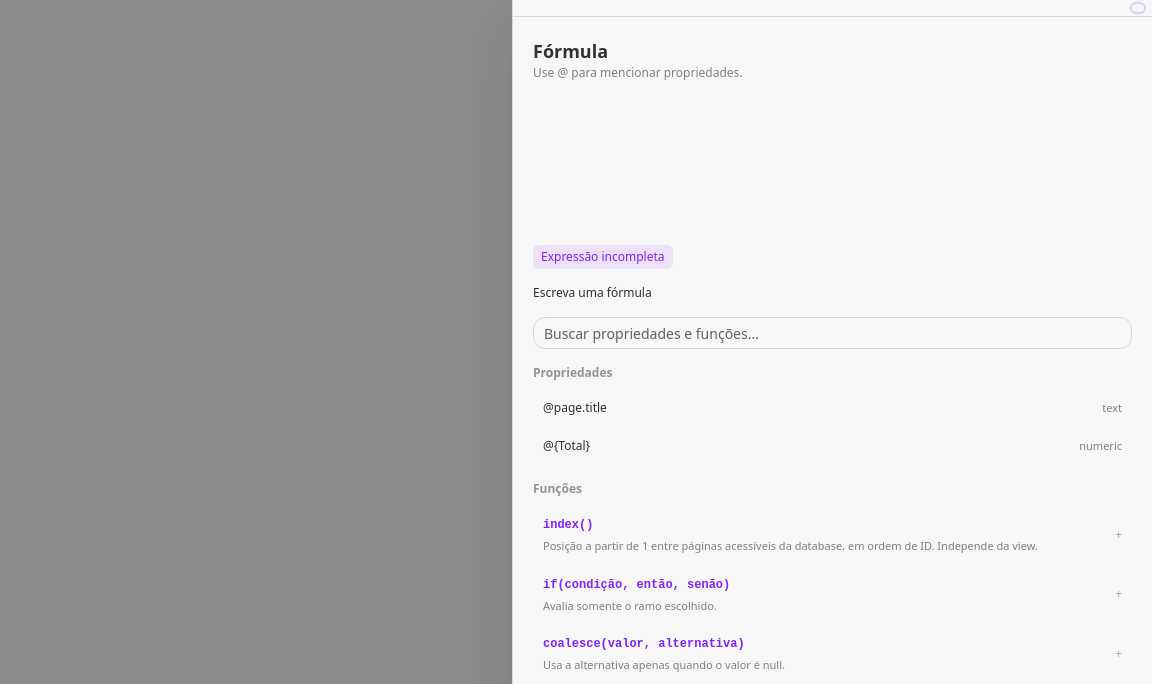
Formula drawer › inserts a function immediately with focus inside parentheses
The width and height of the screenshot is (1152, 684).
What coordinates should you click on to do the following:
click the button "if(condição"
I would click on:
 (637, 584)
Its box is [533, 564, 1132, 624].
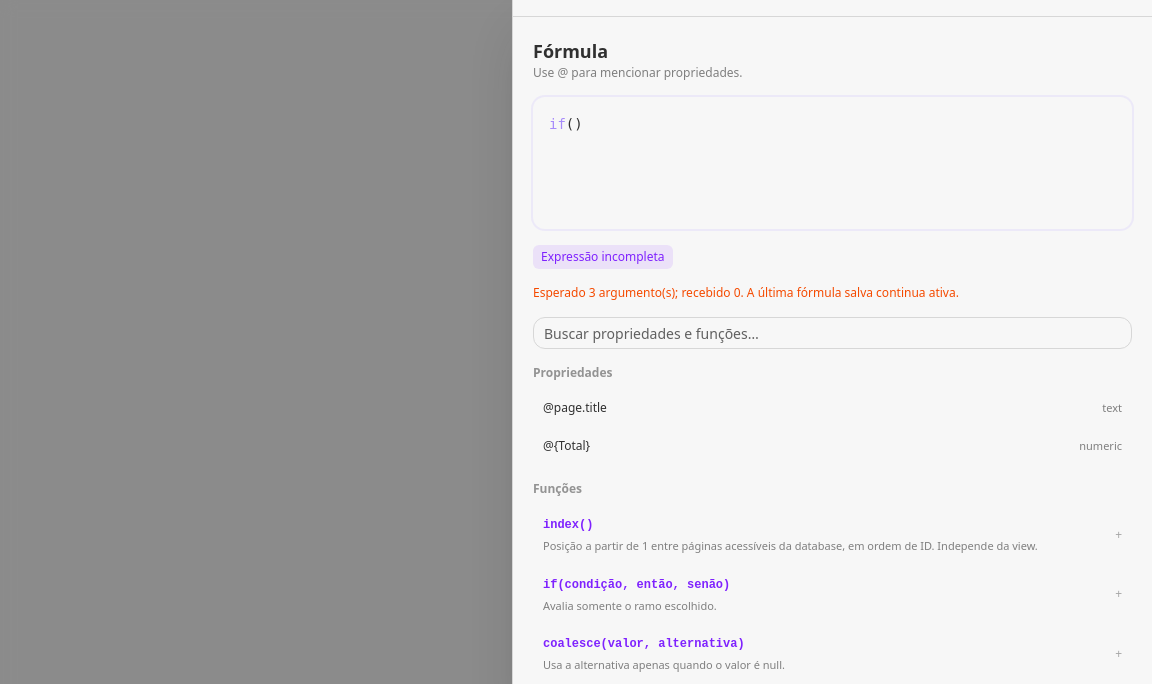
Check: the text box named "Expressão da fórmula" holds "if()", box [533, 97, 1132, 229]
